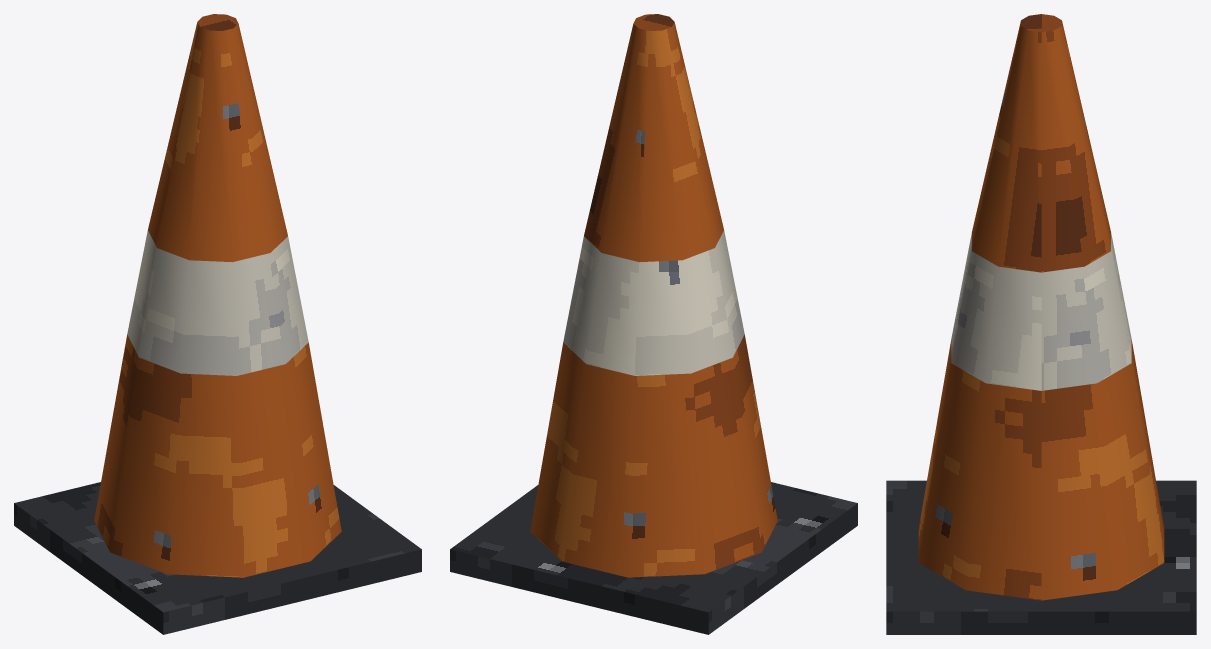
Rendered from SP_TrafficCone.obj.
3 views of the same model, side by side, from view 1: azimuth 30°, elevation 25°; view 2: azimuth 150°, elevation 25°; view 3: azimuth 270°, elevation 25° (orthographic). The views are drawn at different scales.
Visible parts, largest first — view 1: SP_TrafficCone_Mesh_M_Town_PaintOrange, SP_TrafficCone_Mesh_M_Town_PaintBlack, SP_TrafficCone_Mesh_M_Town_PaintWhite; view 2: SP_TrafficCone_Mesh_M_Town_PaintOrange, SP_TrafficCone_Mesh_M_Town_PaintBlack, SP_TrafficCone_Mesh_M_Town_PaintWhite; view 3: SP_TrafficCone_Mesh_M_Town_PaintOrange, SP_TrafficCone_Mesh_M_Town_PaintBlack, SP_TrafficCone_Mesh_M_Town_PaintWhite.
Part boxes in pixels (left/top/right/bottom): SP_TrafficCone_Mesh_M_Town_PaintOrange: left=94, top=14, right=341, bottom=577; SP_TrafficCone_Mesh_M_Town_PaintBlack: left=14, top=482, right=421, bottom=634; SP_TrafficCone_Mesh_M_Town_PaintWhite: left=127, top=230, right=308, bottom=375; SP_TrafficCone_Mesh_M_Town_PaintOrange: left=530, top=14, right=777, bottom=577; SP_TrafficCone_Mesh_M_Town_PaintBlack: left=450, top=482, right=857, bottom=634; SP_TrafficCone_Mesh_M_Town_PaintWhite: left=563, top=230, right=744, bottom=375; SP_TrafficCone_Mesh_M_Town_PaintOrange: left=918, top=14, right=1164, bottom=600; SP_TrafficCone_Mesh_M_Town_PaintBlack: left=886, top=480, right=1196, bottom=634; SP_TrafficCone_Mesh_M_Town_PaintWhite: left=951, top=232, right=1131, bottom=390.
Size of the model in its own units: 0.36 by 0.7 by 0.36.
Materials: 3 (3 with a texture image).
